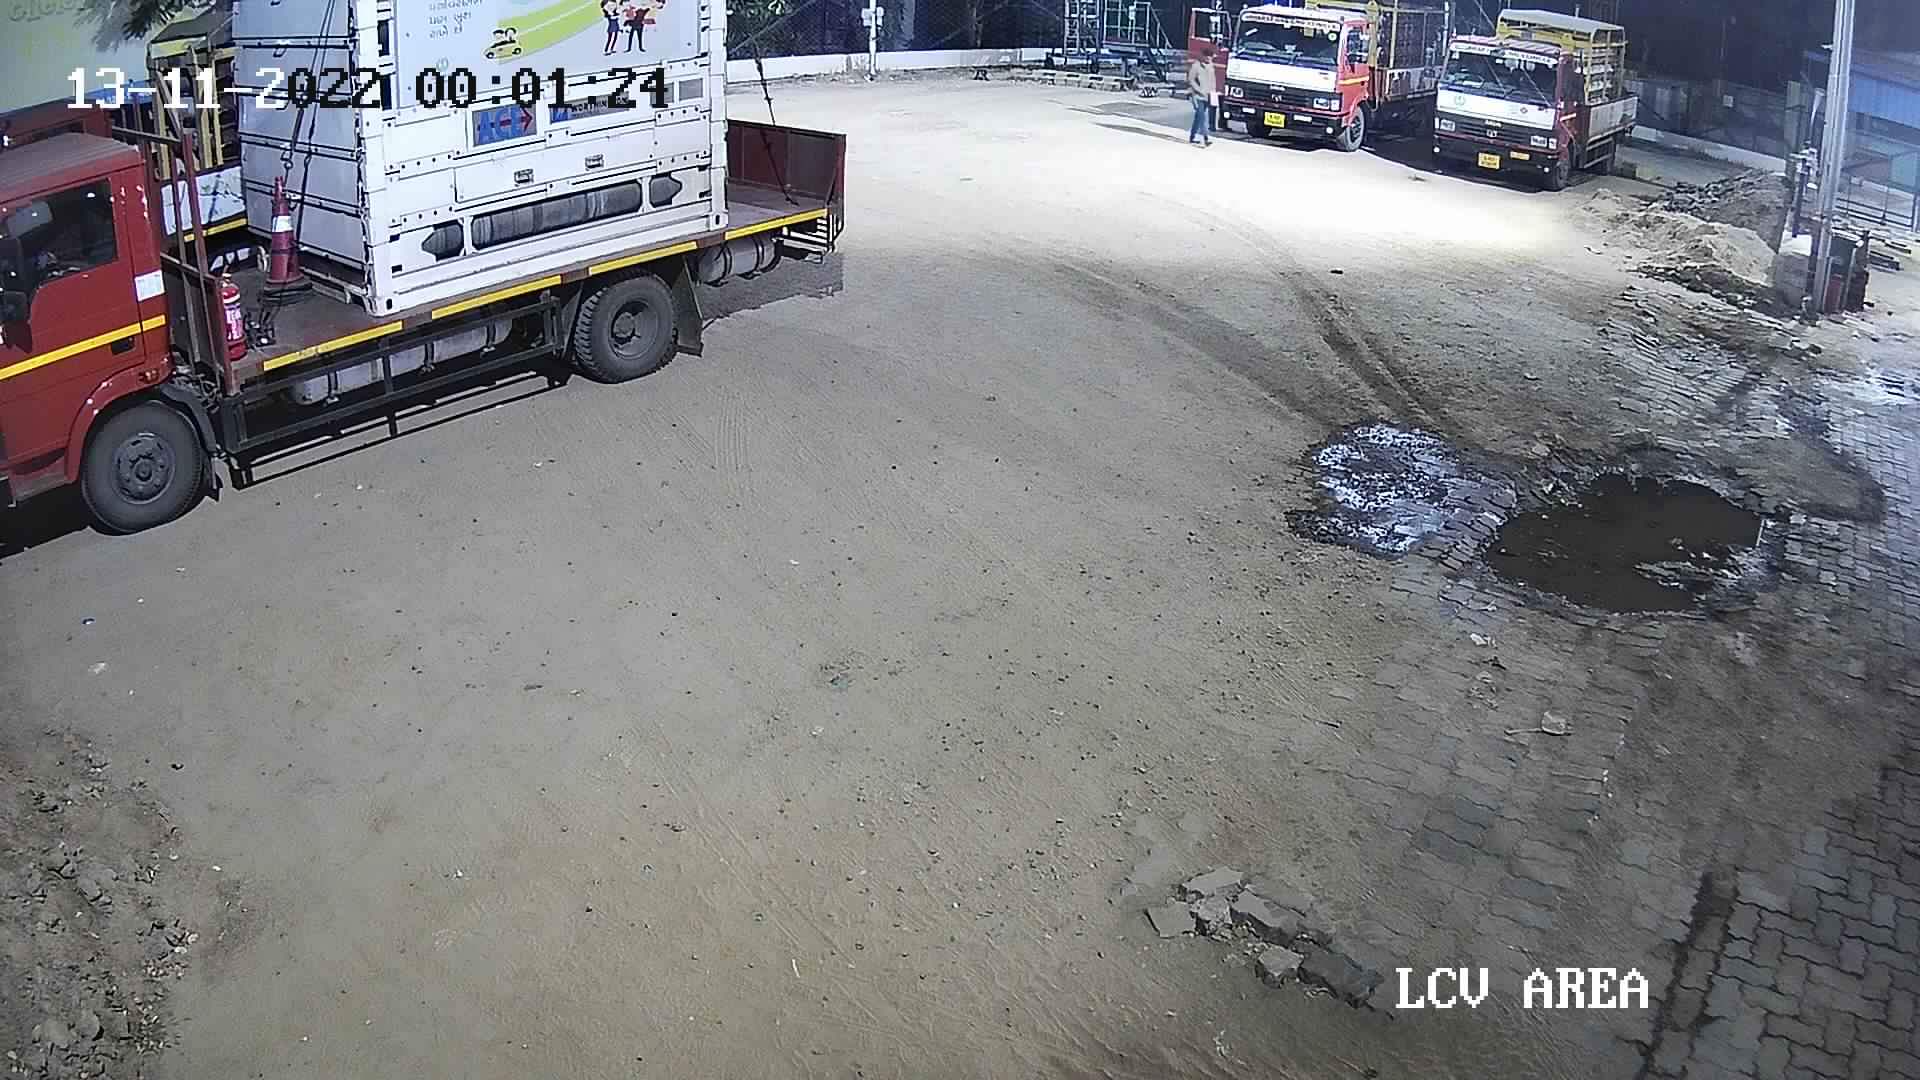HMV: (1, 1, 853, 556), (3, 1, 251, 301), (1178, 0, 1503, 156), (1418, 0, 1646, 193)
